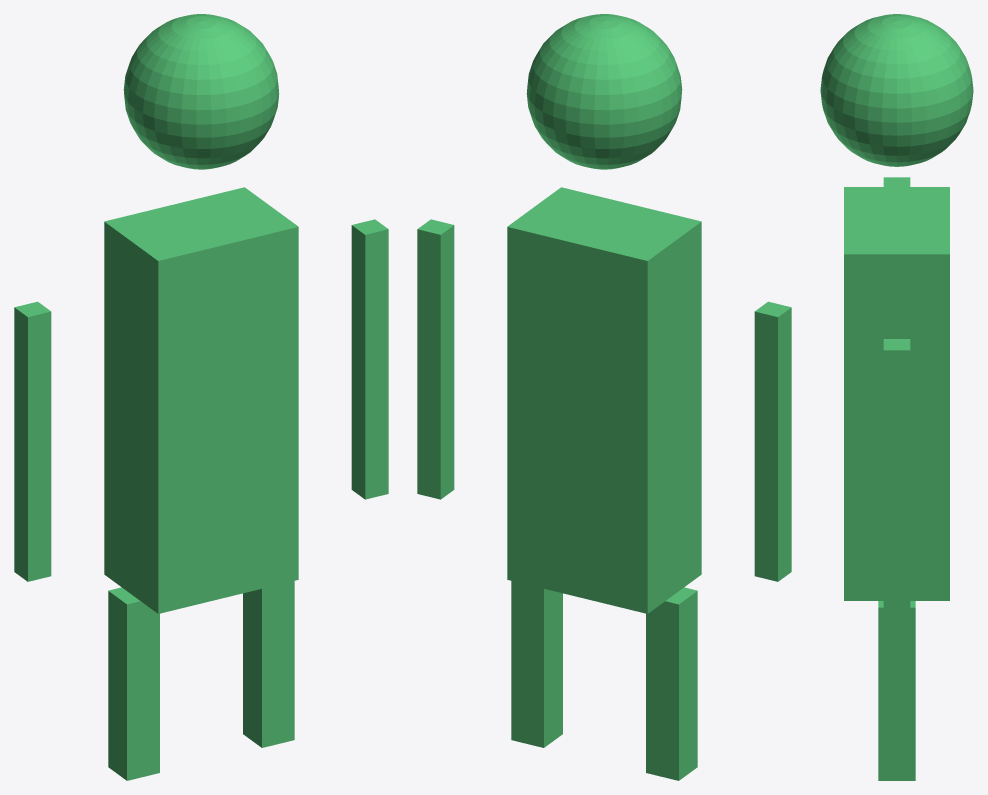
File: char_blackrose.glb
3 views of the same model, side by side, from view 1: azimuth 30°, elevation 25°; view 2: azimuth 150°, elevation 25°; view 3: azimuth 270°, elevation 25° (orthographic).
Visible parts, largest first — view 1: char_blackrose; view 2: char_blackrose; view 3: char_blackrose.
Part boxes in pixels (<box>): char_blackrose: <box>14,14,388,780</box>; char_blackrose: <box>417,14,791,780</box>; char_blackrose: <box>820,14,973,780</box>.
Size of the model in its own units: 0.77 by 1.49 by 0.288.
